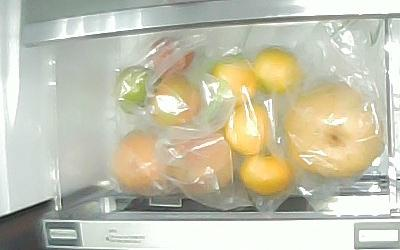peach_vinyl: (164, 128, 234, 194), (114, 129, 163, 197)
pear_vinyl: (283, 83, 382, 178)
tangerine_vinyl: (223, 101, 271, 156), (254, 46, 301, 96), (240, 153, 294, 195), (212, 56, 256, 107)
tomato_vinyl: (150, 75, 200, 125), (114, 65, 159, 114), (145, 35, 194, 79)
